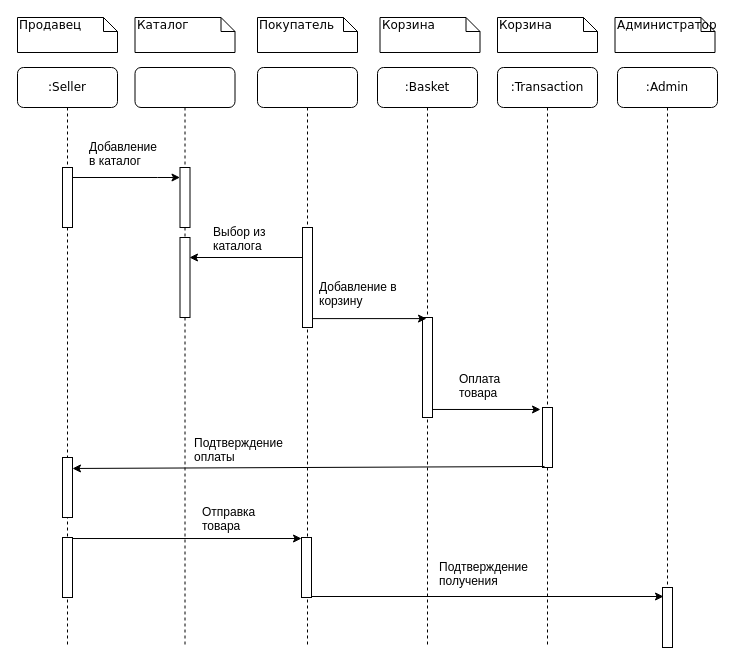
Image size: 735x665. Some labels were removed from this diagram. Each missing label, with the box of its shape:
:Catalog: (134, 66, 235, 648)
:Customer: (256, 66, 358, 648)
